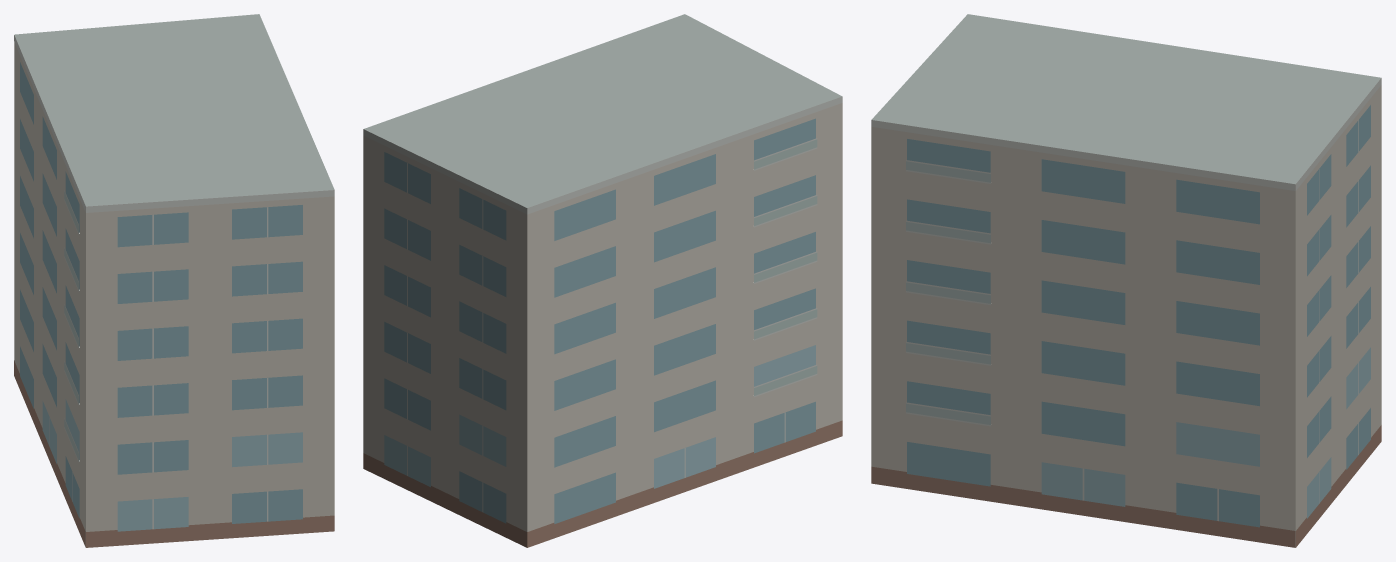
The model's file is survey-upis-32841987.glb.
3 views of the same model, side by side, from view 1: azimuth 30°, elevation 25°; view 2: azimuth 150°, elevation 25°; view 3: azimuth 270°, elevation 25° (orthographic). The views are drawn at different scales.
Parts seen in each view (by area): view 1: survey-upis-32841987.tmp; view 2: survey-upis-32841987.tmp; view 3: survey-upis-32841987.tmp.
Part boxes in pixels (x1,y1,x2,y2): survey-upis-32841987.tmp: [14, 14, 334, 547]; survey-upis-32841987.tmp: [363, 14, 842, 547]; survey-upis-32841987.tmp: [871, 14, 1381, 547].
Bounding box in the file's own units: 13.07 × 13 × 16.55.
